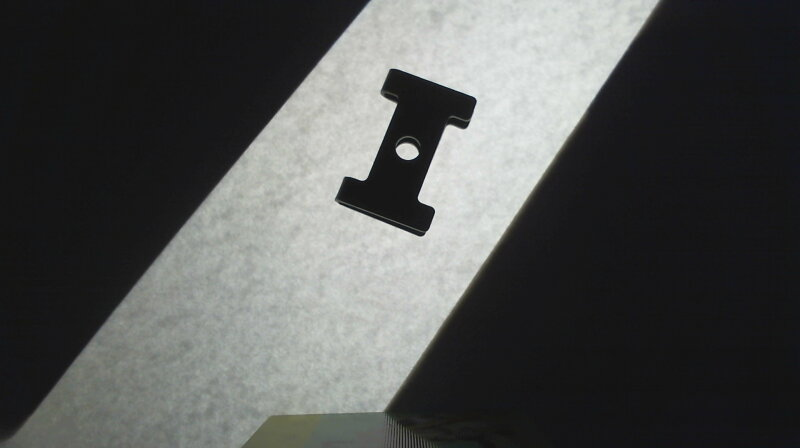O002: (330, 65, 480, 240)
